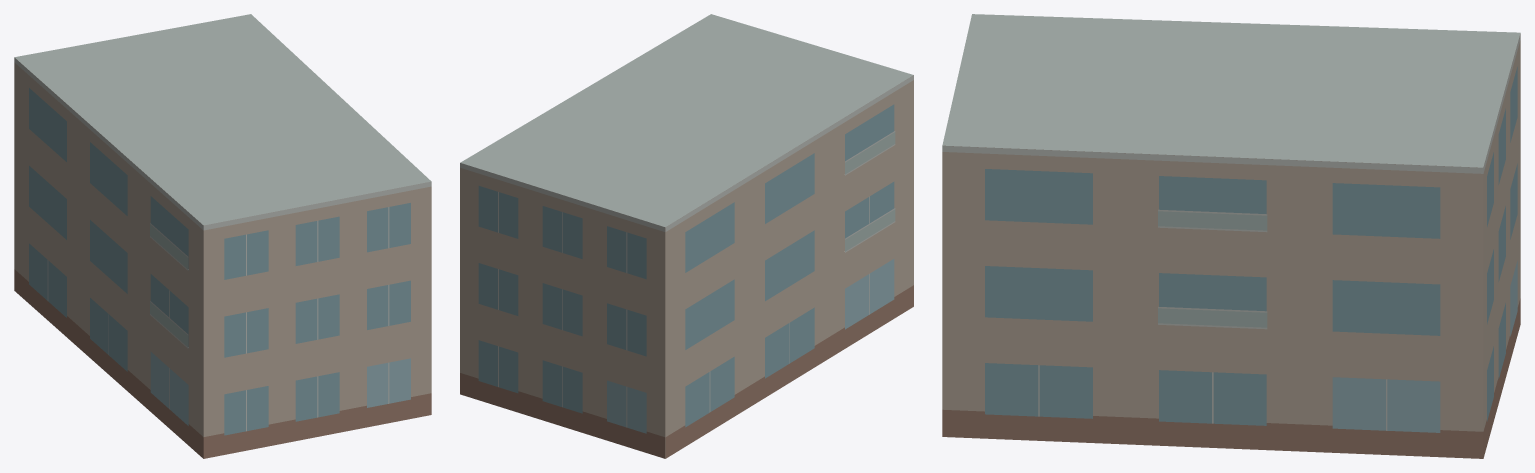
Rendered from survey-upis-32760714.glb.
The picture shows the model from 3 angles, left to right: view 1: azimuth 30°, elevation 25°; view 2: azimuth 150°, elevation 25°; view 3: azimuth 270°, elevation 25°; orthographic projection. The views are drawn at different scales.
Visible parts, largest first — view 1: survey-upis-32760714.tmp; view 2: survey-upis-32760714.tmp; view 3: survey-upis-32760714.tmp.
Part boxes in pixels (box(x1,y1,x2,y2)): survey-upis-32760714.tmp: box(14, 14, 431, 458); survey-upis-32760714.tmp: box(460, 14, 913, 458); survey-upis-32760714.tmp: box(942, 14, 1520, 458).
Size of the model in its own units: 12.91 by 11.4 by 20.53.
